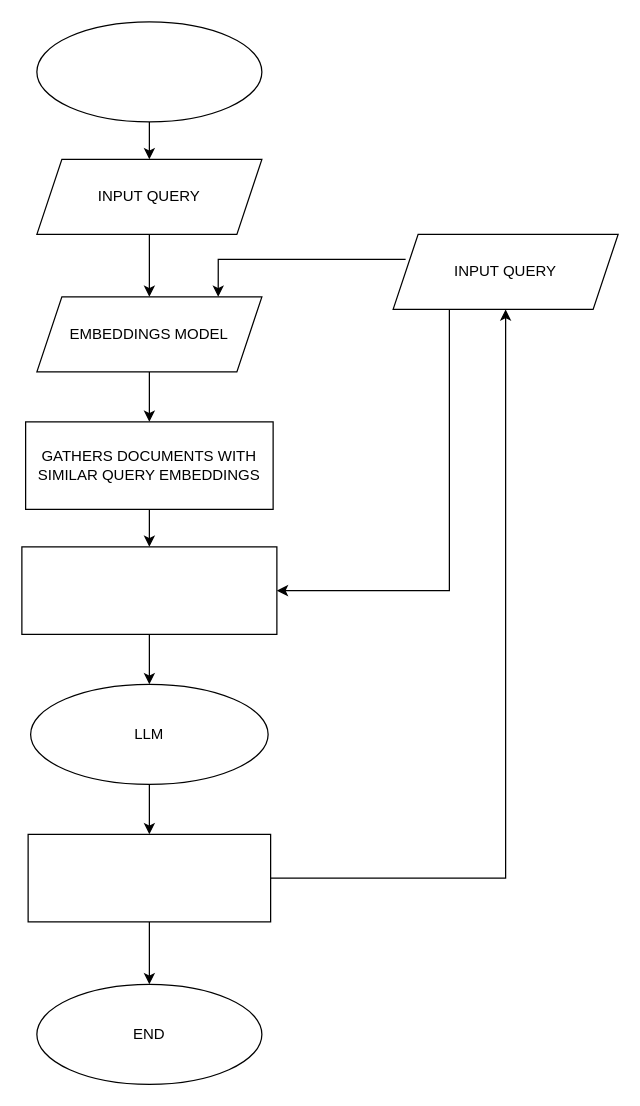
Image size: 640x1106. Some labels were removed from this diagram. The centre of each missing label's shape, as x and y in pixels:
"GENERATES RESPONSE" goes at (149,877).
"PROCESSES A PROMPT" goes at (149,590).
"START" goes at (149,71).
